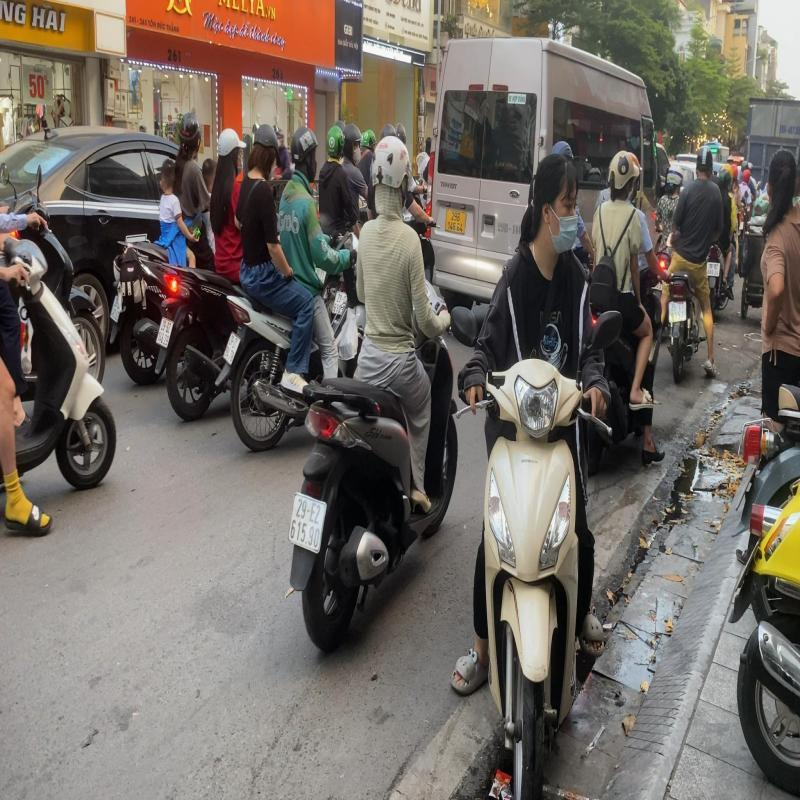nohelmet: (160, 154, 176, 193)
